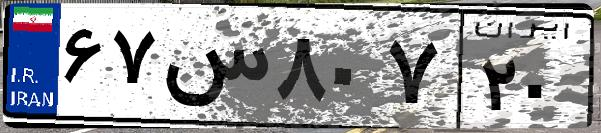0: (330, 28, 385, 110), (525, 38, 570, 115)
2: (475, 38, 525, 113)
6: (57, 26, 110, 100)
7: (385, 28, 445, 110), (110, 28, 158, 98)
8: (270, 28, 330, 110)
س: (158, 20, 270, 120)
